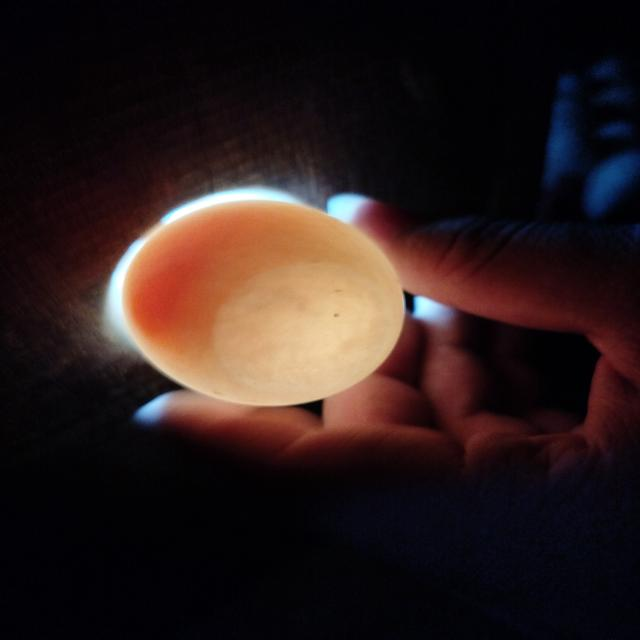Camara de Ar: (213, 263, 390, 390)
